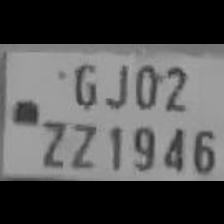0: (130, 58, 159, 110)
1: (98, 116, 126, 170)
2: (158, 60, 190, 113)
4: (158, 120, 188, 172)
6: (186, 122, 218, 174)
9: (126, 120, 156, 170)
G: (68, 56, 100, 107)
J: (101, 55, 129, 109)
Z: (34, 115, 68, 169), (64, 116, 98, 169)
